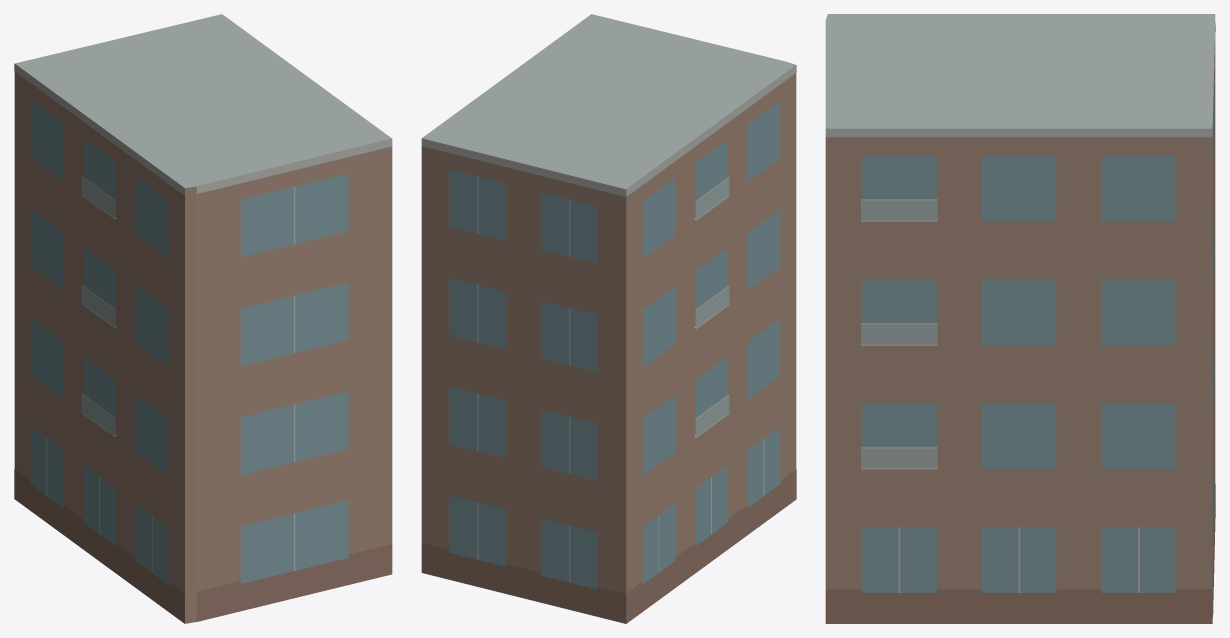
The model's file is survey-upis-32461488.glb.
3 renders of one model, left to right at view 1: azimuth 30°, elevation 25°; view 2: azimuth 150°, elevation 25°; view 3: azimuth 270°, elevation 25°, orthographic. The views are drawn at different scales.
Visible parts, largest first — view 1: survey-upis-32461488.tmp; view 2: survey-upis-32461488.tmp; view 3: survey-upis-32461488.tmp.
Part boxes in pixels (left/top/right/bottom): survey-upis-32461488.tmp: left=14, top=14, right=392, bottom=623; survey-upis-32461488.tmp: left=421, top=14, right=796, bottom=623; survey-upis-32461488.tmp: left=825, top=14, right=1215, bottom=623.
Bounding box in the file's own units: 6.87 × 13.7 × 9.79.
